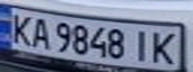4: (87, 25, 109, 58)
8: (106, 26, 130, 61), (69, 22, 90, 56)
9: (48, 20, 72, 53)
A: (27, 16, 54, 50)
I: (127, 28, 157, 63)
K: (148, 28, 181, 65), (3, 11, 36, 46)
